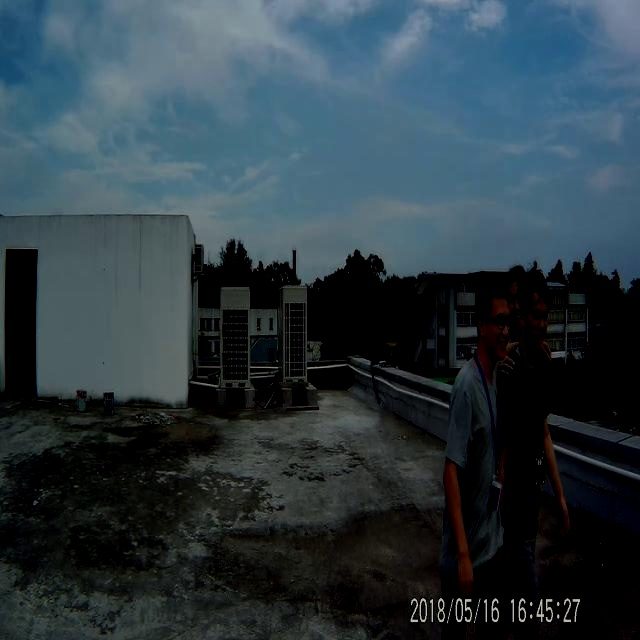Sin_Casco_Mascarrilla: (476, 274, 511, 360)
Sin_Chaleco: (442, 359, 502, 567)
